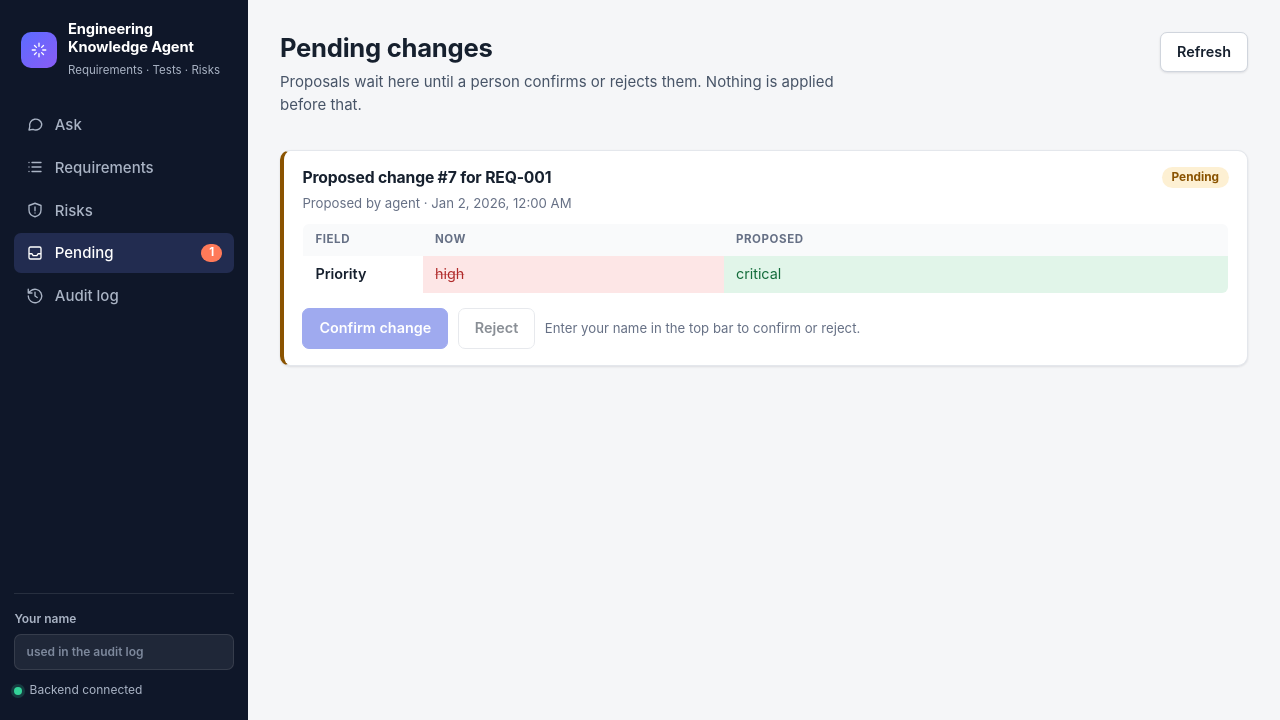
pending page › explains that an out-of-date proposal must be proposed again (409)
Step 1. Type "Rachna" into the field with placeholder "used in the audit log" → (124, 652), box top-left (14, 634), bottom-right (234, 670)
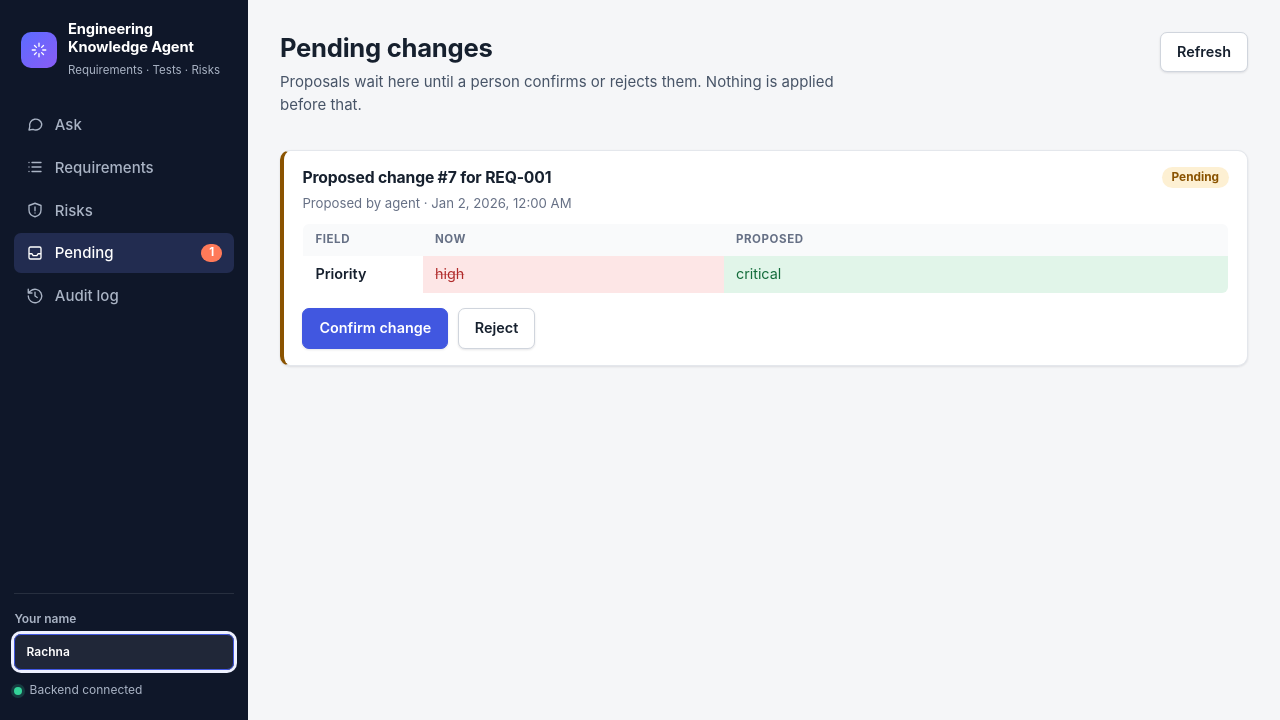
Step 2. Click the button "Confirm change" → (375, 329), box top-left (302, 308), bottom-right (448, 349)
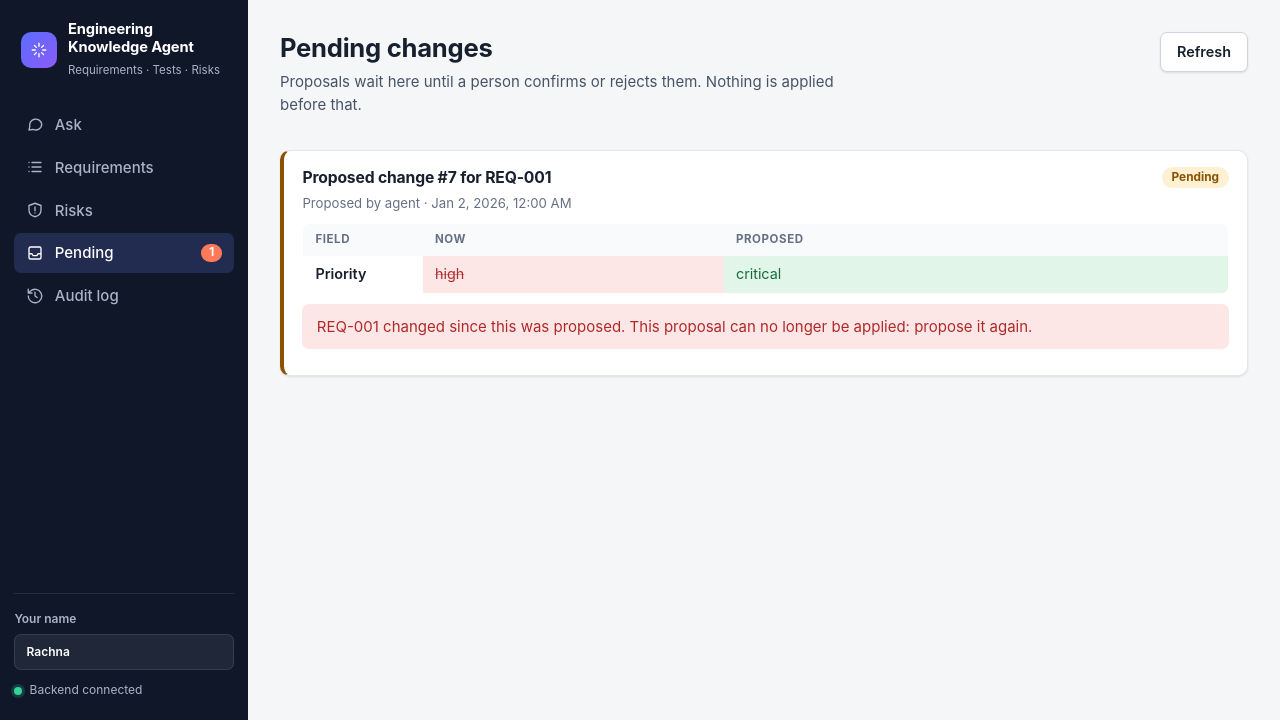
Check: the message shows "propose it again", box top-left (625, 317), bottom-right (1032, 336)
